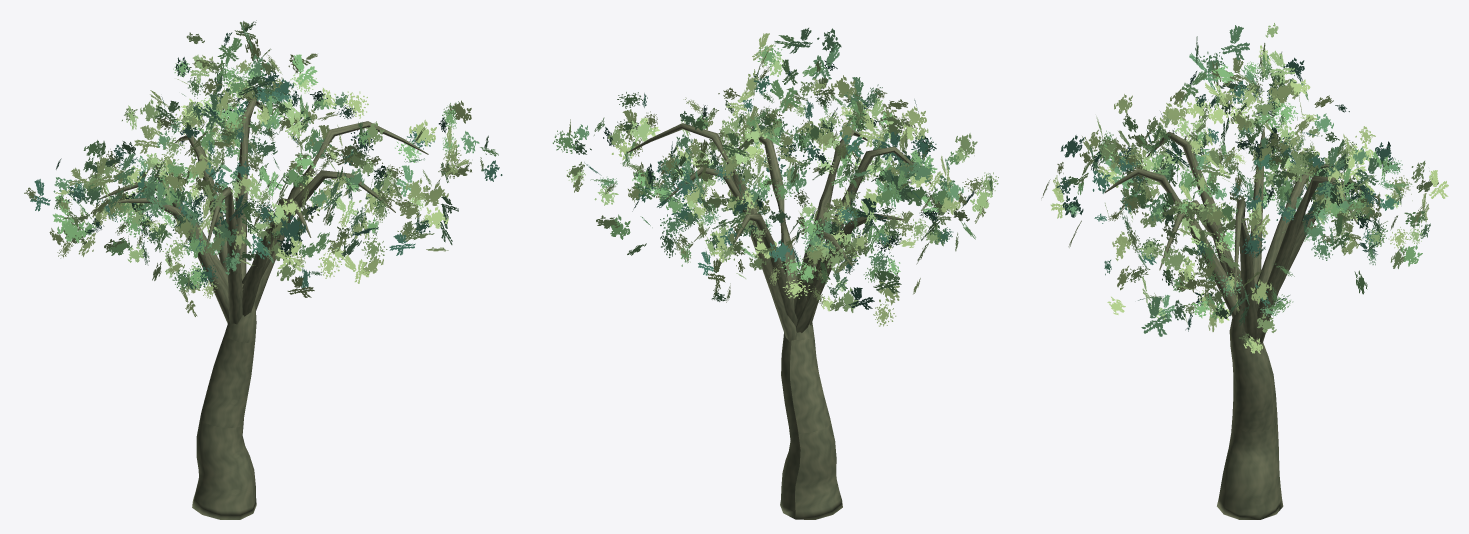
The model's file is Tree_River_02_Broad_Fork_LOD1.glb.
The picture shows the model from 3 angles, left to right: view 1: azimuth 30°, elevation 25°; view 2: azimuth 150°, elevation 25°; view 3: azimuth 270°, elevation 25°; orthographic projection. The views are drawn at different scales.
Visible parts, largest first — view 1: Tree_River_02_Broad_Fork_LOD1; view 2: Tree_River_02_Broad_Fork_LOD1; view 3: Tree_River_02_Broad_Fork_LOD1.
Part boxes in pixels (x1,y1,x2,y2): Tree_River_02_Broad_Fork_LOD1: [24, 20, 502, 519]; Tree_River_02_Broad_Fork_LOD1: [552, 28, 998, 519]; Tree_River_02_Broad_Fork_LOD1: [1041, 23, 1448, 519].
Size of the model in its own units: 7.35 by 7.75 by 6.06.
2 materials, 2 textured.
